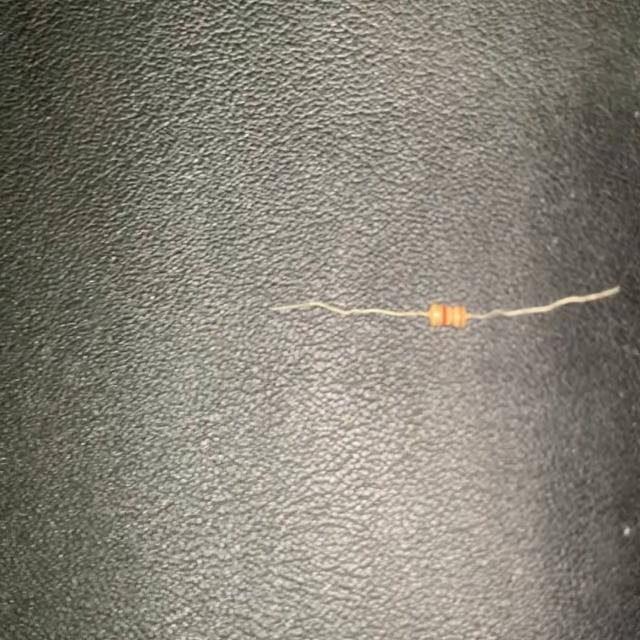resistor: (262, 278, 622, 336)
